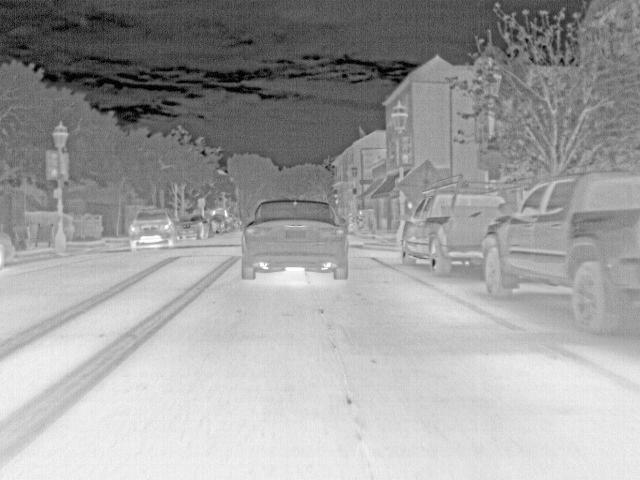car: (483, 170, 639, 334), (400, 186, 511, 278), (240, 197, 348, 281), (126, 207, 176, 251), (176, 215, 210, 240), (0, 229, 16, 268), (224, 214, 240, 230), (211, 214, 224, 233)
person: (354, 208, 367, 231)
